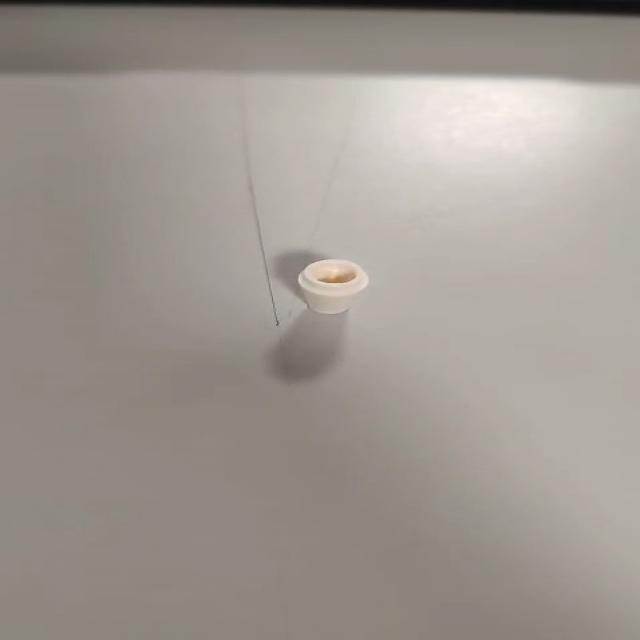Z1x1x1: (299, 258, 370, 318)
